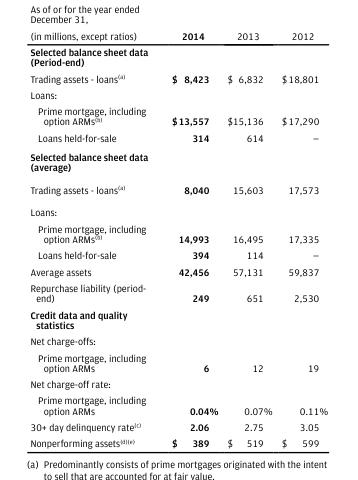table: (29, 28, 327, 448)
table column: (29, 28, 158, 448), (158, 28, 221, 448), (221, 28, 276, 448), (276, 28, 327, 448)
table column header: (29, 28, 327, 43)
table projected row header: (29, 146, 327, 177), (29, 305, 327, 332), (29, 43, 327, 69), (29, 200, 327, 219), (29, 86, 327, 102), (29, 332, 327, 348), (29, 375, 327, 391)
table row: (29, 146, 327, 177), (29, 102, 327, 129), (29, 219, 327, 246), (29, 305, 327, 332), (29, 348, 327, 375), (29, 391, 327, 418), (29, 43, 327, 69), (29, 279, 327, 305), (29, 177, 327, 200), (29, 200, 327, 219), (29, 69, 327, 86), (29, 129, 327, 146), (29, 262, 327, 279), (29, 86, 327, 102), (29, 246, 327, 262), (29, 332, 327, 348), (29, 375, 327, 391), (29, 418, 327, 434), (29, 28, 327, 43), (29, 434, 327, 448)
